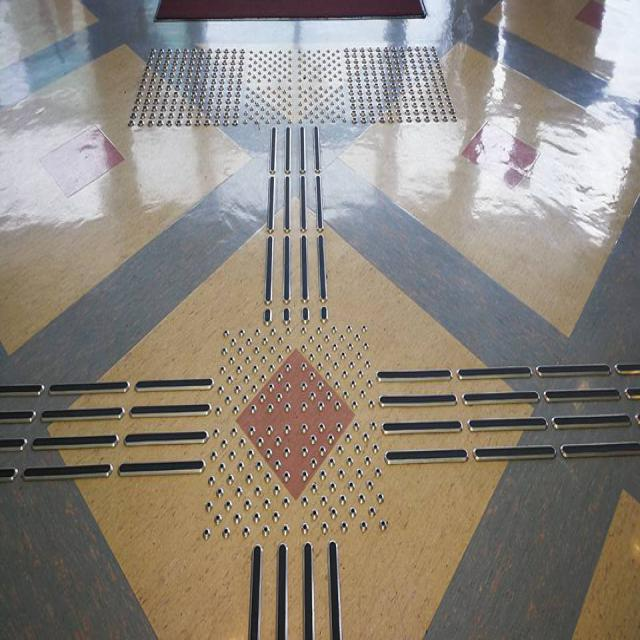tactile-guide-path: (202, 322, 388, 542), (376, 361, 640, 468), (128, 46, 458, 126), (1, 374, 214, 482), (264, 124, 329, 326), (247, 538, 343, 638)
